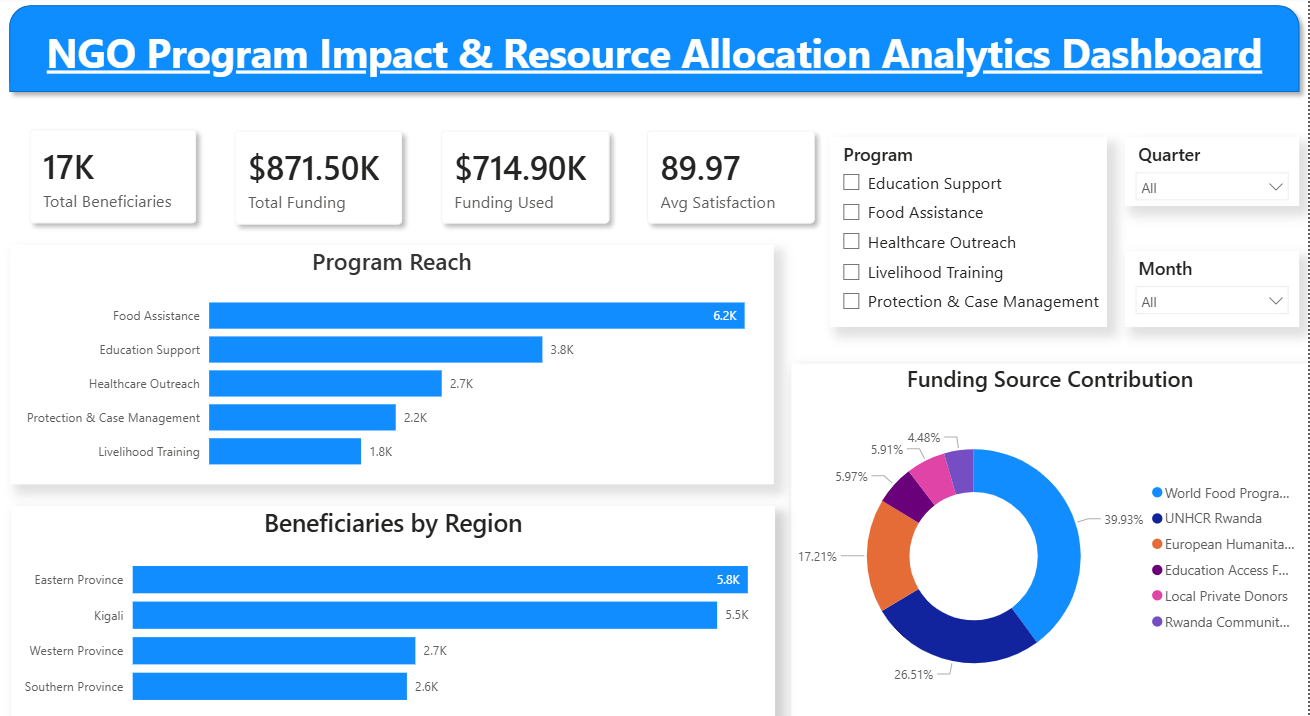

What the dashboard file says about the page in this screenshot:
{"tool":"powerbi","page":{"name":"Page 1","canvas":[1280,720],"ordinal":0},"visuals":[{"type":"shape","box":[0,0,1280.3,102.9],"z":0},{"type":"cardVisual","fields":{"Data":["public program_impact.Total Beneficiaries"]},"box":[0,101.4,221.4,150],"z":1000},{"type":"cardVisual","fields":{"Data":["public donor_track.Total Funding"]},"box":[200,102.9,222.9,150],"z":2000},{"type":"cardVisual","fields":{"Data":["public program_impact.Avg Satisfaction"]},"box":[603.8,102.9,222.3,149.6],"z":3000},{"type":"cardVisual","fields":{"Data":["public donor_track.Funding Used"]},"box":[402.1,102.9,223.7,149.6],"z":4000},{"type":"clusteredBarChart","title":"Program Reach ","fields":{"Y":["Sum(public program_impact.beneficiaries_reached)"],"Category":["public program_impact.program"]},"box":[10,242.9,747.1,234.3],"z":5000},{"type":"donutChart","title":"Funding Source Contribution","fields":{"Y":["Sum(public donor_track.funding_received_usd)"],"Category":["public donor_track.donor_name"]},"box":[773.9,359.5,506.3,348.5],"z":6000},{"type":"clusteredBarChart","title":"Beneficiaries by Region","fields":{"Y":["Sum(public program_impact.beneficiaries_reached)"],"Category":["public program_impact.region"]},"box":[11.4,498.6,747.1,210],"z":7000},{"type":"slicer","fields":{"Values":["public program_impact.program"]},"box":[811.4,138.6,271.4,185.7],"z":8000},{"type":"slicer","fields":{"Values":["public program_impact.quarter"]},"box":[1100,138.6,170,67.1],"z":9000},{"type":"slicer","fields":{"Values":["public program_impact.month_number"]},"box":[1100,250,170,74.3],"z":10000}]}

Visuals, with their boxes in screenshot pixels (x1, y1, x2, y2), scaled from the page's 1280x720 canvas onto the 1310x716 screenshot:
shape: locate(0, 0, 1309, 102)
cardVisual - public program_impact.Total Beneficiaries: locate(0, 101, 227, 250)
cardVisual - public donor_track.Total Funding: locate(205, 102, 433, 251)
cardVisual - public program_impact.Avg Satisfaction: locate(618, 102, 845, 251)
cardVisual - public donor_track.Funding Used: locate(412, 102, 640, 251)
"Program Reach " clusteredBarChart: locate(10, 242, 775, 475)
"Funding Source Contribution" donutChart: locate(792, 358, 1309, 704)
"Beneficiaries by Region" clusteredBarChart: locate(12, 496, 776, 705)
slicer - public program_impact.program: locate(830, 138, 1108, 322)
slicer - public program_impact.quarter: locate(1126, 138, 1300, 205)
slicer - public program_impact.month_number: locate(1126, 249, 1300, 322)
